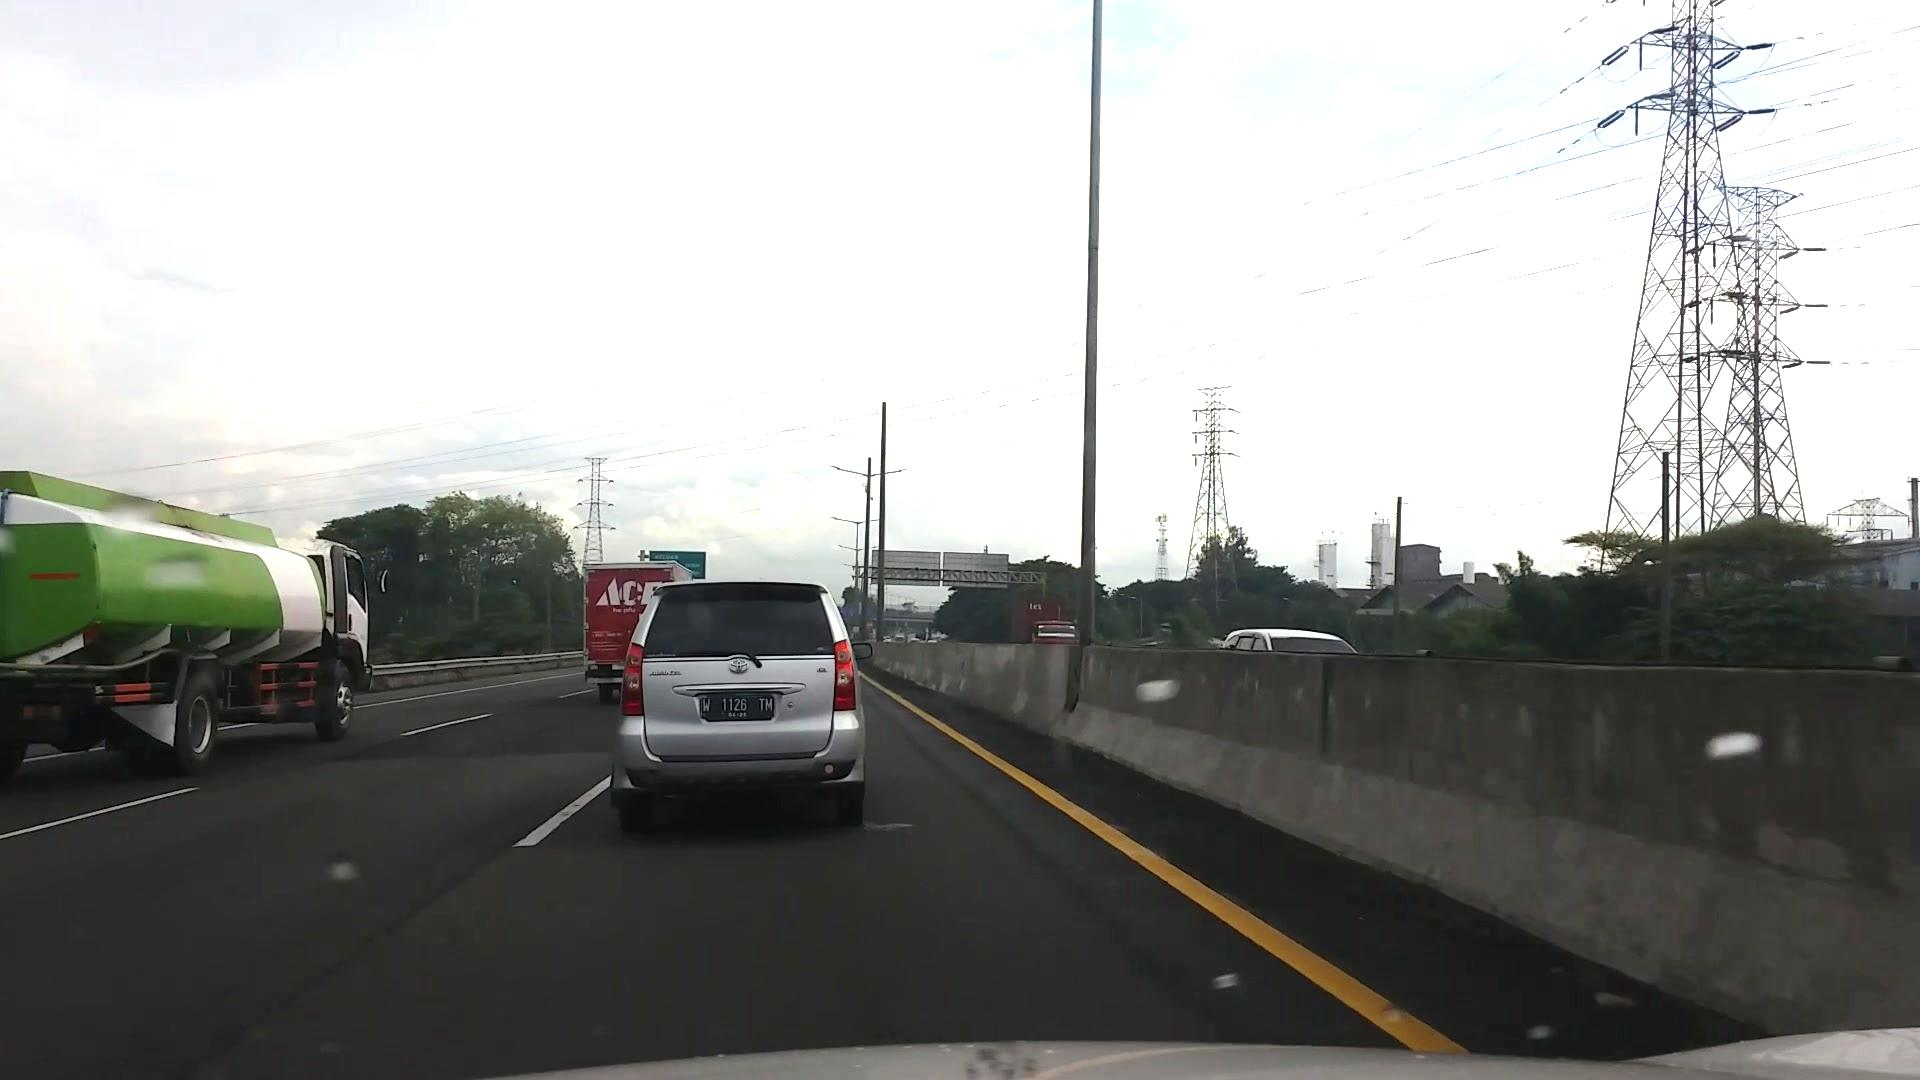plate_positive: (700, 695, 774, 721)
